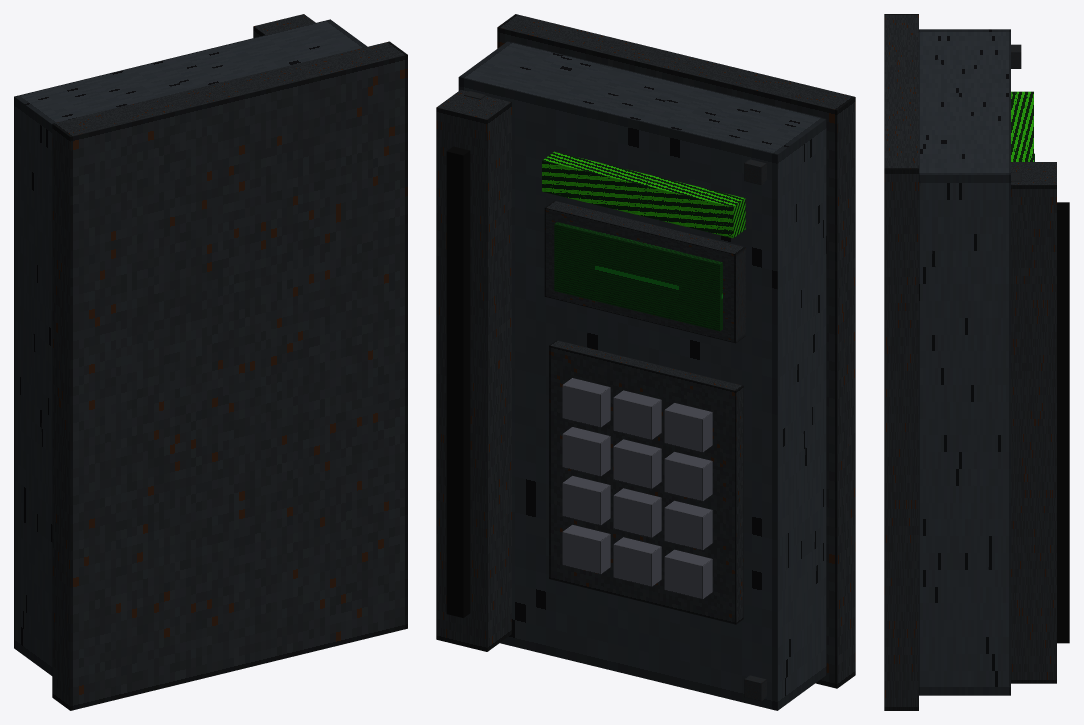
Rendered from access_card_reader.glb.
The picture shows the model from 3 angles, left to right: view 1: azimuth 30°, elevation 25°; view 2: azimuth 150°, elevation 25°; view 3: azimuth 270°, elevation 25°; orthographic projection. The views are drawn at different scales.
Visible parts, largest first — view 1: access_card_reader; view 2: access_card_reader; view 3: access_card_reader.
Boxes of the visible parts, x1,y1,x2,y2 form: access_card_reader: [14, 14, 407, 710]; access_card_reader: [436, 14, 855, 710]; access_card_reader: [884, 14, 1069, 710].
Bounding box in the file's own units: 0.16 × 0.26 × 0.0805.
1 material, 1 textured.
